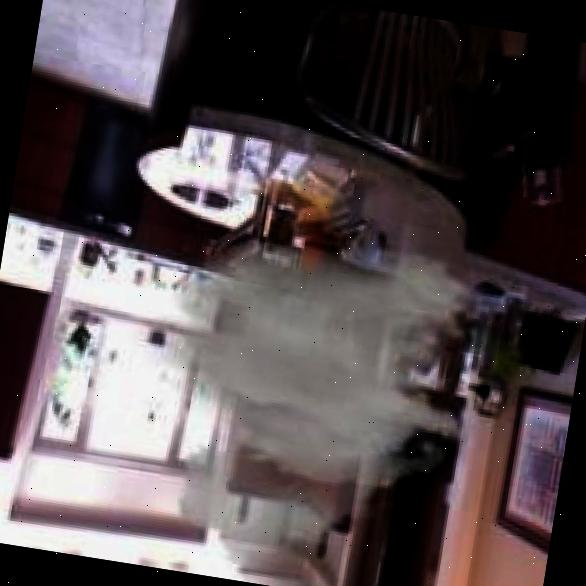smoke: (90, 208, 496, 586)
